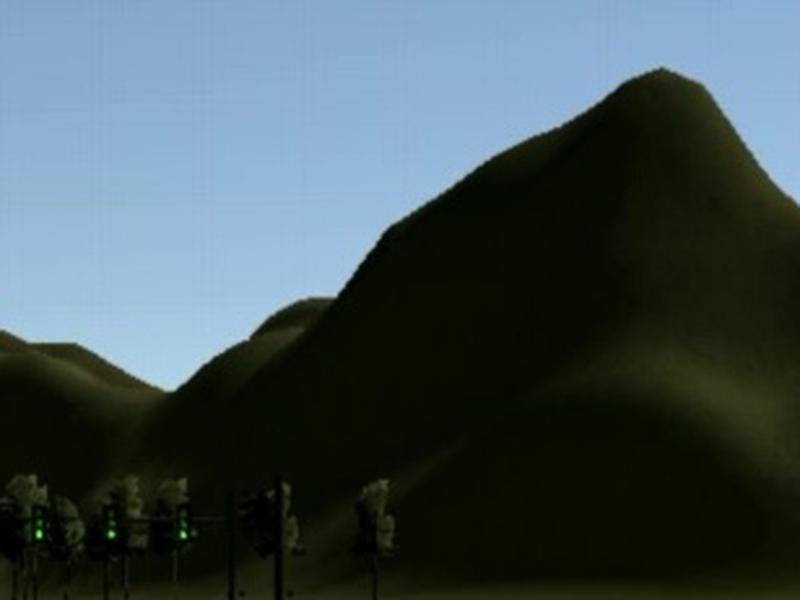Green: (30, 504, 48, 543), (102, 505, 120, 542), (176, 507, 193, 541)
